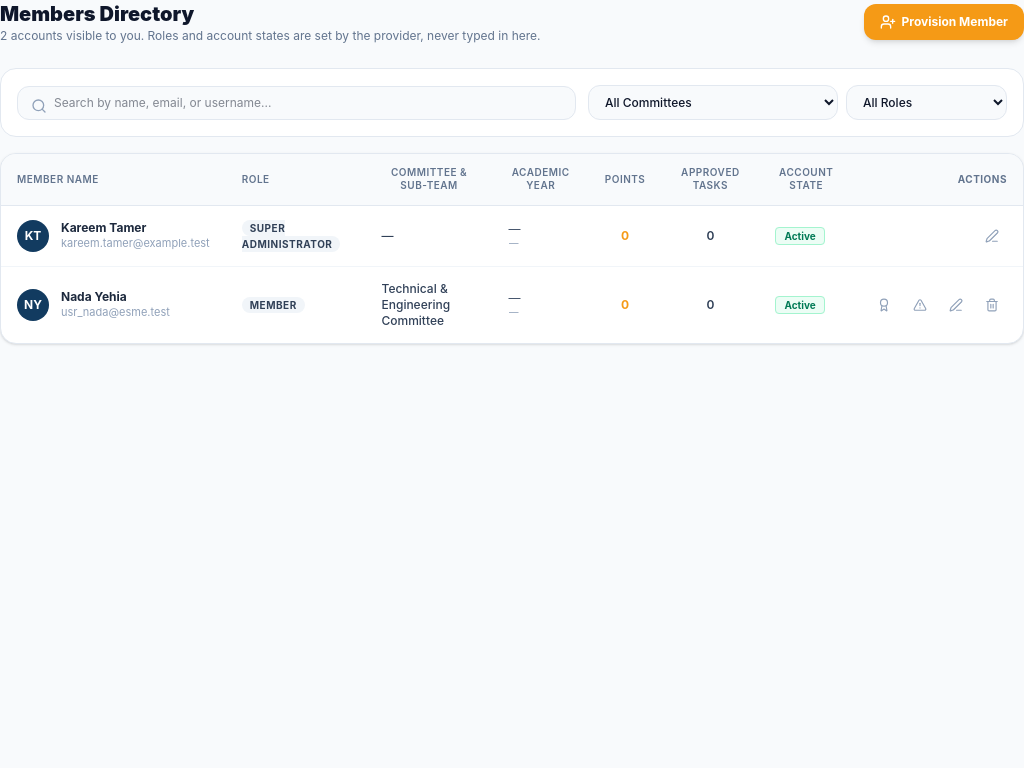
Test case: the directory an administrator reads › drops the account from storage after the confirmation, and releases nothing else
The image size is (1024, 768).
Click the button named "Remove from directory".
click(992, 305)  # box [977, 292, 1007, 318]
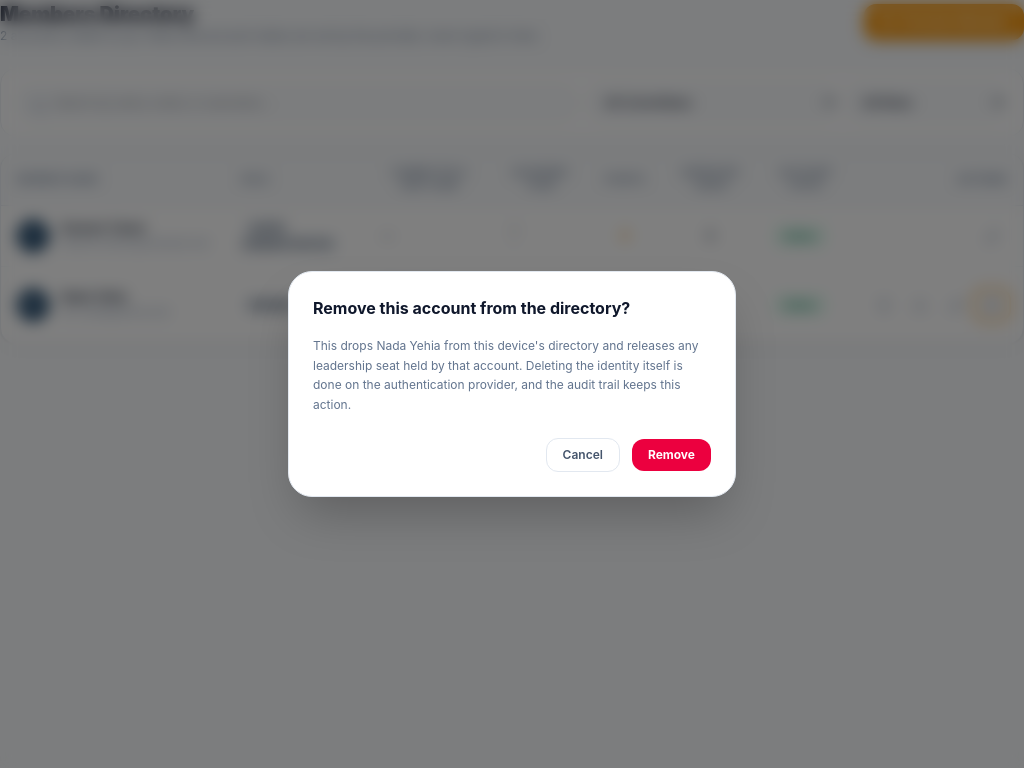
Click the button "Remove".
click(671, 455)  # box [632, 439, 711, 471]
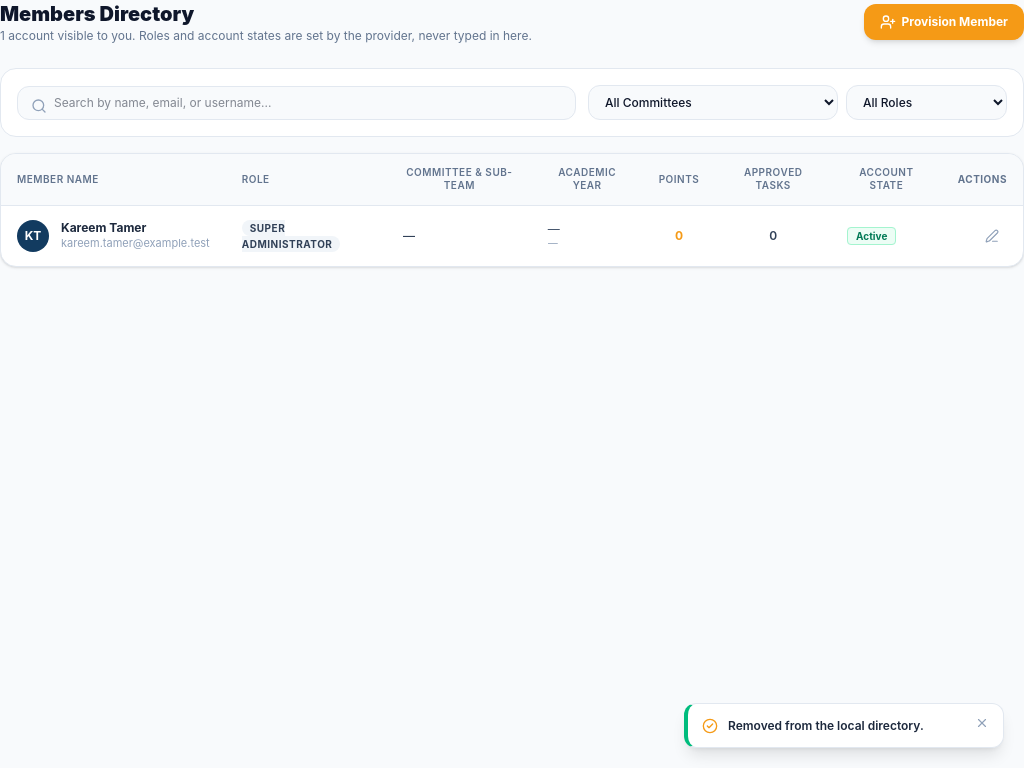
Expected: the text "Nada Yehia" is gone
